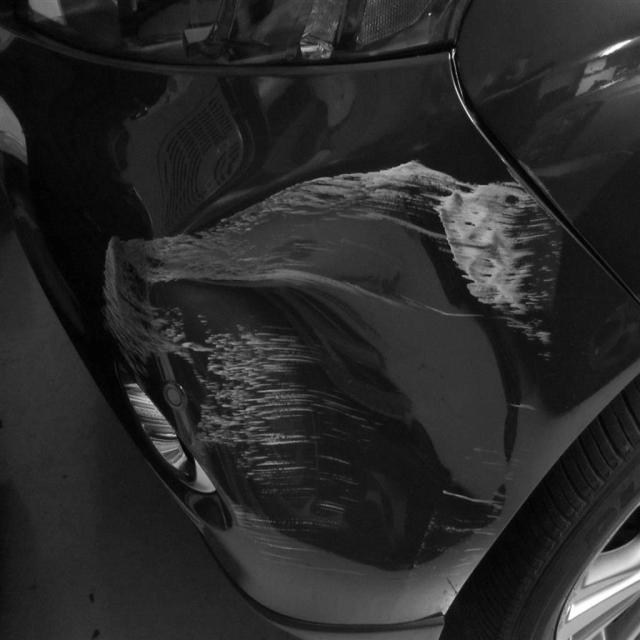dent: (156, 150, 547, 565)
scratch: (94, 138, 572, 600)
